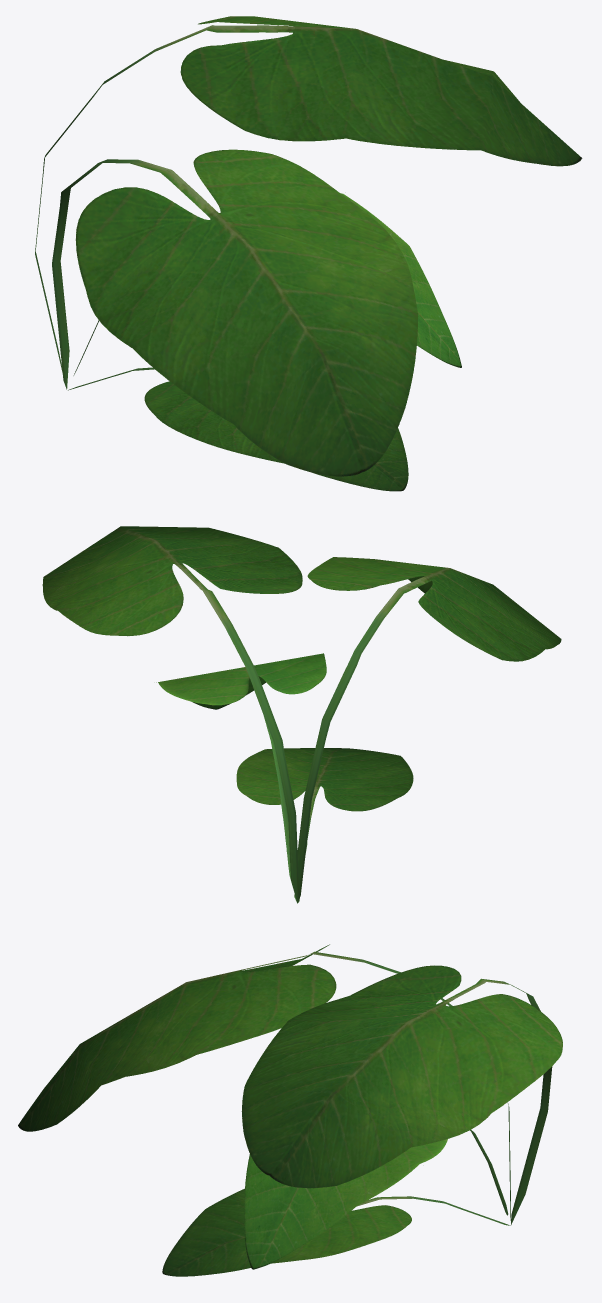
File: PlainBigLeaves01.dae
3 views of the same model, one above another, from view 1: azimuth 30°, elevation 25°; view 2: azimuth 150°, elevation 25°; view 3: azimuth 270°, elevation 25° (orthographic). The views are drawn at different scales.
Parts seen in each view (by area): view 1: polySurface253; view 2: polySurface253; view 3: polySurface253.
Boxes of the visible parts, x1=… form: polySurface253: x1=35, y1=16, x2=582, y2=491; polySurface253: x1=42, y1=526, x2=561, y2=903; polySurface253: x1=18, y1=944, x2=562, y2=1276.
Bounding box in the file's own units: 2.72 × 1.67 × 2.86.
1 material, 1 textured.
